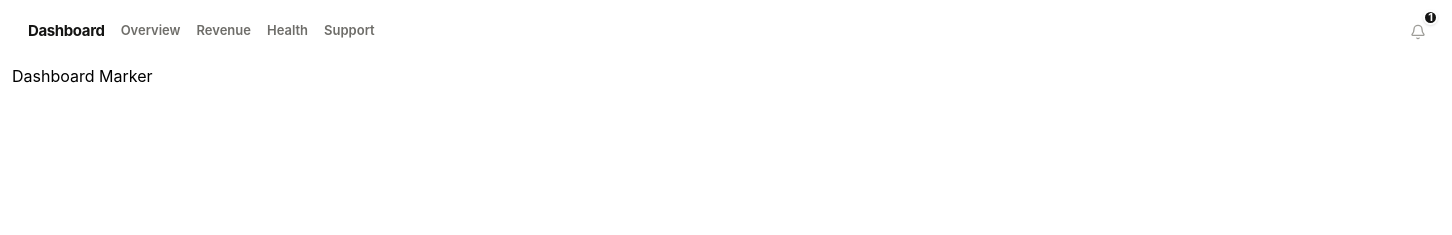
Scenario: Navbar notification bell › opens the task panel from a task_assigned notification, with its icon, and steps back over it like an in-app task link
Click the button named "Notifications": click(1418, 32) [1400,14,1436,50]
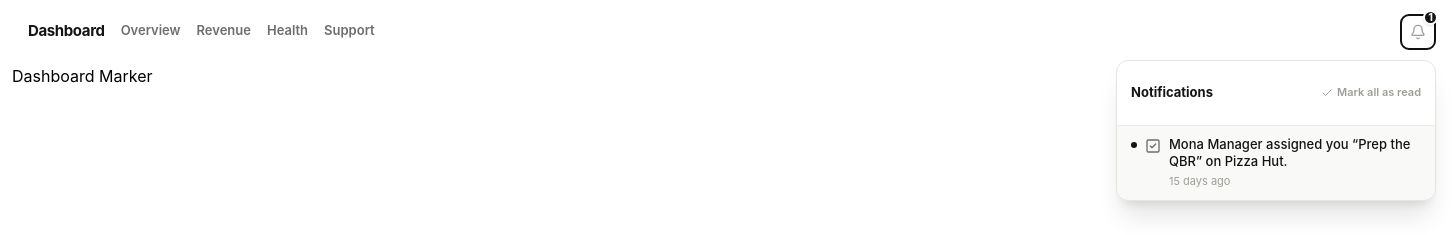
Click the text "Mona Manager assigned you “Prep the QBR” on Pizza Hut.": click(1295, 153) [1169,136,1421,171]
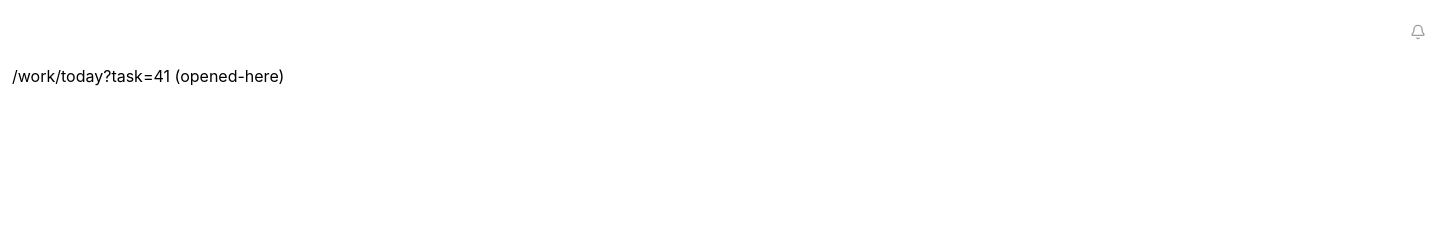
Now the text with test id "segment-marker" reads "/work/today?task=41 (opened-here)", box [12,66,284,86]
